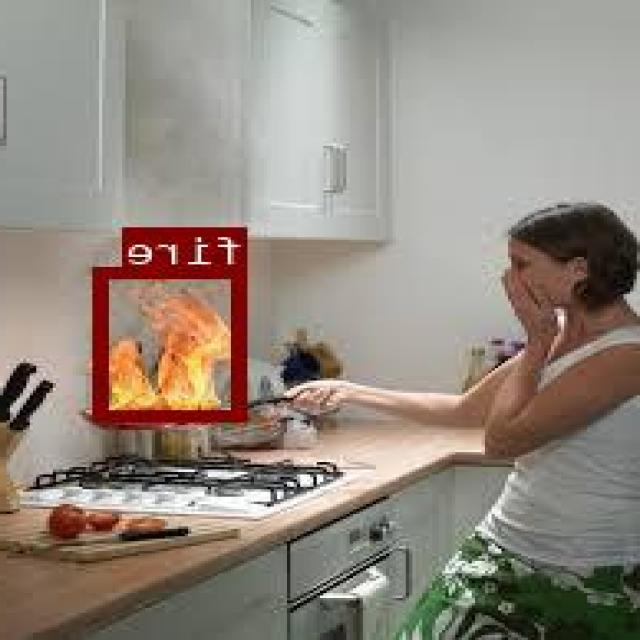fire: (97, 265, 249, 419)
